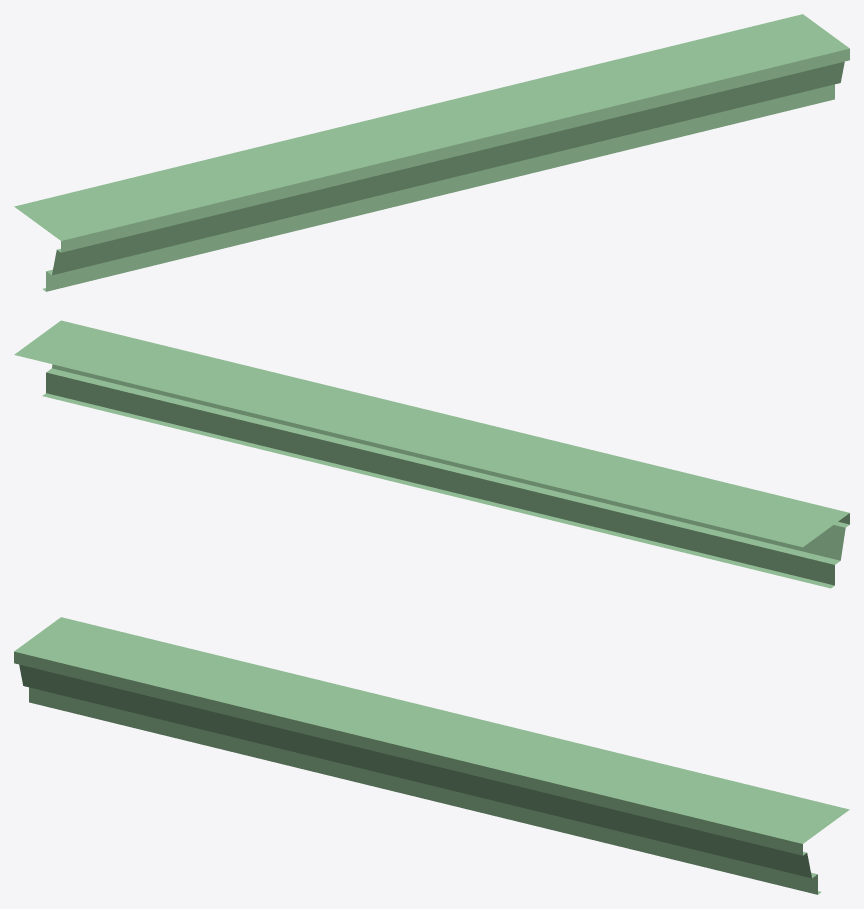
The model's file is SM_Modular_Trim_3.fbx.
3 renders of one model, top to bottom at view 1: azimuth 30°, elevation 25°; view 2: azimuth 150°, elevation 25°; view 3: azimuth 330°, elevation 25°, orthographic.
Parts seen in each view (by area): view 1: Plane.025; view 2: Plane.025; view 3: Plane.025.
Part boxes in pixels (left/top/right/bottom): Plane.025: left=14, top=14, right=849, bottom=291; Plane.025: left=14, top=320, right=849, bottom=588; Plane.025: left=14, top=617, right=849, bottom=894.
Bounding box in the file's own units: 500 × 37.42 × 51.7.
